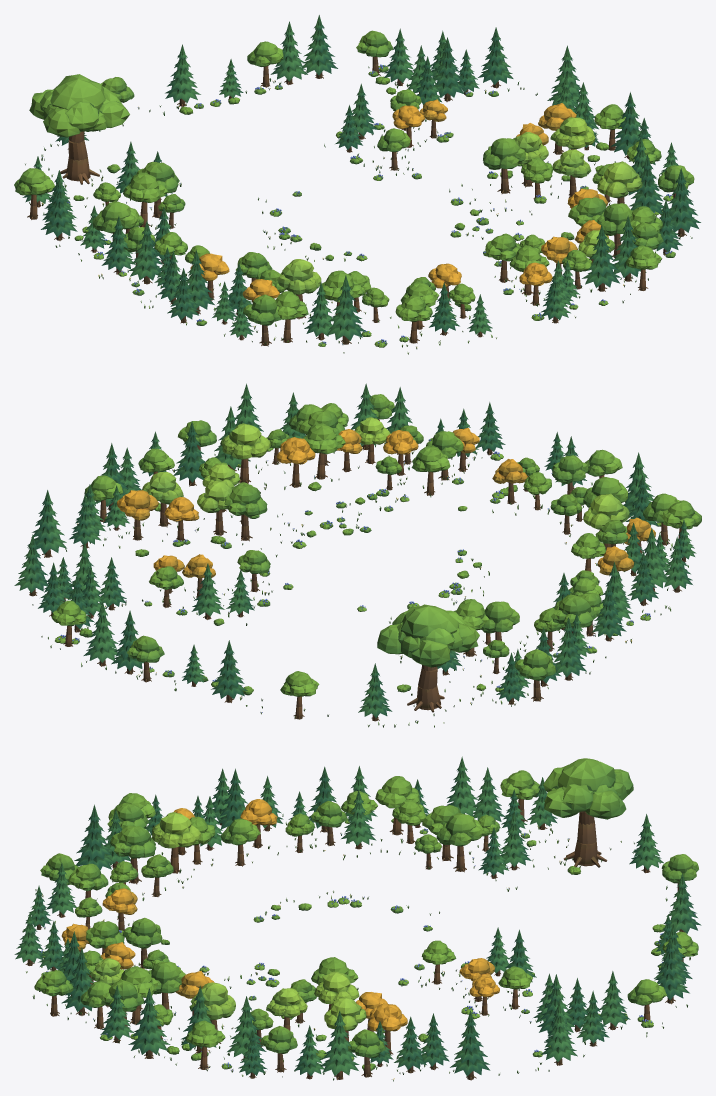
The model's file is LOBBY_SN_09_VEGETATION_06bf56.fbx.
3 views of the same model, one above another, from view 1: azimuth 30°, elevation 25°; view 2: azimuth 150°, elevation 25°; view 3: azimuth 270°, elevation 25° (orthographic). The views are drawn at different scales.
Parts seen in each view (by area): view 1: WB_Veg_pine1__SNB_Veg_pine1__SNB_Veg_pine1_g16_15, WB_Veg_pine1__SNB_Veg_pine1__SNB_Veg_pine1_g16_16, WB_Veg_oak1__SNB_Veg_oak1__SNB_Veg_oak1_g16_15, WB_Veg_ancient__SNB_Veg_ancient__SNB_Veg_ancient, WB_Veg_oak1__SNB_Veg_oak1__SNB_Veg_oak1_g15_15, WB_Veg_oak3__SNB_Veg_oak3__SNB_Veg_oak3_g16_15, WB_Veg_pine1__SNB_Veg_pine1__SNB_Veg_pine1_g15_15, WB_Veg_pine2__SNB_Veg_pine2__SNB_Veg_pine2_g15_15, WB_Veg_oak1__SNB_Veg_oak1__SNB_Veg_oak1_g15_16, WB_Veg_pine1__SNB_Veg_pine1__SNB_Veg_pine1_g14_16, WB_Veg_oakG__SNB_Veg_oakG__SNB_Veg_oakG_g16_16, WB_Veg_pine1__SNB_Veg_pine1__SNB_Veg_pine1_g16_17 (+20 smaller); view 2: WB_Veg_oak1__SNB_Veg_oak1__SNB_Veg_oak1_g16_15, WB_Veg_pine1__SNB_Veg_pine1__SNB_Veg_pine1_g16_16, WB_Veg_ancient__SNB_Veg_ancient__SNB_Veg_ancient, WB_Veg_oak1__SNB_Veg_oak1__SNB_Veg_oak1_g15_15, WB_Veg_pine1__SNB_Veg_pine1__SNB_Veg_pine1_g16_15, WB_Veg_oak3__SNB_Veg_oak3__SNB_Veg_oak3_g16_15, WB_Veg_oakG__SNB_Veg_oakG__SNB_Veg_oakG_g16_15, WB_Veg_pine1__SNB_Veg_pine1__SNB_Veg_pine1_g14_16, WB_Veg_oakG__SNB_Veg_oakG__SNB_Veg_oakG_g16_16, WB_Veg_oak1__SNB_Veg_oak1__SNB_Veg_oak1_g15_16, WB_Veg_oak2__SNB_Veg_oak2__SNB_Veg_oak2_g15_15, WB_Veg_pine2__SNB_Veg_pine2__SNB_Veg_pine2_g15_15 (+20 smaller); view 3: WB_Veg_pine1__SNB_Veg_pine1__SNB_Veg_pine1_g16_16, WB_Veg_pine1__SNB_Veg_pine1__SNB_Veg_pine1_g16_15, WB_Veg_oak1__SNB_Veg_oak1__SNB_Veg_oak1_g16_15, WB_Veg_ancient__SNB_Veg_ancient__SNB_Veg_ancient, WB_Veg_oak1__SNB_Veg_oak1__SNB_Veg_oak1_g15_15, WB_Veg_oak1__SNB_Veg_oak1__SNB_Veg_oak1_g15_16, WB_Veg_pine1__SNB_Veg_pine1__SNB_Veg_pine1_g15_15, WB_Veg_oak3__SNB_Veg_oak3__SNB_Veg_oak3_g16_15, WB_Veg_pine1__SNB_Veg_pine1__SNB_Veg_pine1_g17_16, WB_Veg_oak2__SNB_Veg_oak2__SNB_Veg_oak2_g15_15, WB_Veg_oakG__SNB_Veg_oakG__SNB_Veg_oakG_g16_16, WB_Veg_pine2__SNB_Veg_pine2__SNB_Veg_pine2_g15_15 (+23 smaller).
Part boxes in pixels (left/top/right/bottom): WB_Veg_pine1__SNB_Veg_pine1__SNB_Veg_pine1_g16_15: left=433, top=136, right=700, bottom=335; WB_Veg_pine1__SNB_Veg_pine1__SNB_Veg_pine1_g16_16: left=41, top=27, right=657, bottom=260; WB_Veg_oak1__SNB_Veg_oak1__SNB_Veg_oak1_g16_15: left=483, top=138, right=678, bottom=295; WB_Veg_ancient__SNB_Veg_ancient__SNB_Veg_ancient: left=29, top=74, right=129, bottom=184; WB_Veg_oak1__SNB_Veg_oak1__SNB_Veg_oak1_g15_15: left=154, top=232, right=439, bottom=346; WB_Veg_oak3__SNB_Veg_oak3__SNB_Veg_oak3_g16_15: left=516, top=119, right=642, bottom=257; WB_Veg_pine1__SNB_Veg_pine1__SNB_Veg_pine1_g15_15: left=144, top=220, right=456, bottom=344; WB_Veg_pine2__SNB_Veg_pine2__SNB_Veg_pine2_g15_15: left=47, top=193, right=579, bottom=340; WB_Veg_oak1__SNB_Veg_oak1__SNB_Veg_oak1_g15_16: left=49, top=161, right=179, bottom=265; WB_Veg_pine1__SNB_Veg_pine1__SNB_Veg_pine1_g14_16: left=22, top=156, right=136, bottom=274; WB_Veg_oakG__SNB_Veg_oakG__SNB_Veg_oakG_g16_16: left=392, top=99, right=576, bottom=154; WB_Veg_pine1__SNB_Veg_pine1__SNB_Veg_pine1_g16_17: left=270, top=15, right=393, bottom=84; WB_Veg_oak1__SNB_Veg_oak1__SNB_Veg_oak1_g16_15: left=156, top=398, right=463, bottom=541; WB_Veg_pine1__SNB_Veg_pine1__SNB_Veg_pine1_g16_16: left=19, top=444, right=599, bottom=699; WB_Veg_ancient__SNB_Veg_ancient__SNB_Veg_ancient: left=377, top=604, right=479, bottom=712; WB_Veg_oak1__SNB_Veg_oak1__SNB_Veg_oak1_g15_15: left=552, top=450, right=701, bottom=595; WB_Veg_pine1__SNB_Veg_pine1__SNB_Veg_pine1_g16_15: left=173, top=383, right=586, bottom=488; WB_Veg_oak3__SNB_Veg_oak3__SNB_Veg_oak3_g16_15: left=168, top=417, right=390, bottom=535; WB_Veg_oakG__SNB_Veg_oakG__SNB_Veg_oakG_g16_15: left=276, top=428, right=479, bottom=487; WB_Veg_pine1__SNB_Veg_pine1__SNB_Veg_pine1_g14_16: left=504, top=582, right=626, bottom=704; WB_Veg_oakG__SNB_Veg_oakG__SNB_Veg_oakG_g16_16: left=117, top=490, right=215, bottom=597; WB_Veg_oak1__SNB_Veg_oak1__SNB_Veg_oak1_g15_16: left=453, top=589, right=601, bottom=665; WB_Veg_oak2__SNB_Veg_oak2__SNB_Veg_oak2_g15_15: left=517, top=457, right=627, bottom=586; WB_Veg_pine2__SNB_Veg_pine2__SNB_Veg_pine2_g15_15: left=435, top=408, right=696, bottom=689; WB_Veg_pine1__SNB_Veg_pine1__SNB_Veg_pine1_g16_16: left=242, top=786, right=622, bottom=1079; WB_Veg_pine1__SNB_Veg_pine1__SNB_Veg_pine1_g16_15: left=14, top=862, right=266, bottom=1060; WB_Veg_oak1__SNB_Veg_oak1__SNB_Veg_oak1_g16_15: left=59, top=917, right=344, bottom=1037; WB_Veg_ancient__SNB_Veg_ancient__SNB_Veg_ancient: left=543, top=758, right=633, bottom=867; WB_Veg_oak1__SNB_Veg_oak1__SNB_Veg_oak1_g15_15: left=61, top=793, right=343, bottom=898; WB_Veg_oak1__SNB_Veg_oak1__SNB_Veg_oak1_g15_16: left=340, top=776, right=530, bottom=872; WB_Veg_pine1__SNB_Veg_pine1__SNB_Veg_pine1_g15_15: left=59, top=766, right=341, bottom=917; WB_Veg_oak3__SNB_Veg_oak3__SNB_Veg_oak3_g16_15: left=90, top=958, right=344, bottom=1043; WB_Veg_pine1__SNB_Veg_pine1__SNB_Veg_pine1_g17_16: left=339, top=1010, right=572, bottom=1080; WB_Veg_oak2__SNB_Veg_oak2__SNB_Veg_oak2_g15_15: left=75, top=813, right=315, bottom=929; WB_Veg_oakG__SNB_Veg_oakG__SNB_Veg_oakG_g16_16: left=356, top=958, right=499, bottom=1054; WB_Veg_pine2__SNB_Veg_pine2__SNB_Veg_pine2_g15_15: left=26, top=779, right=523, bottom=971.
Bounding box in the file's own units: 298 × 51.29 × 315.
10 materials, 10 textured.
